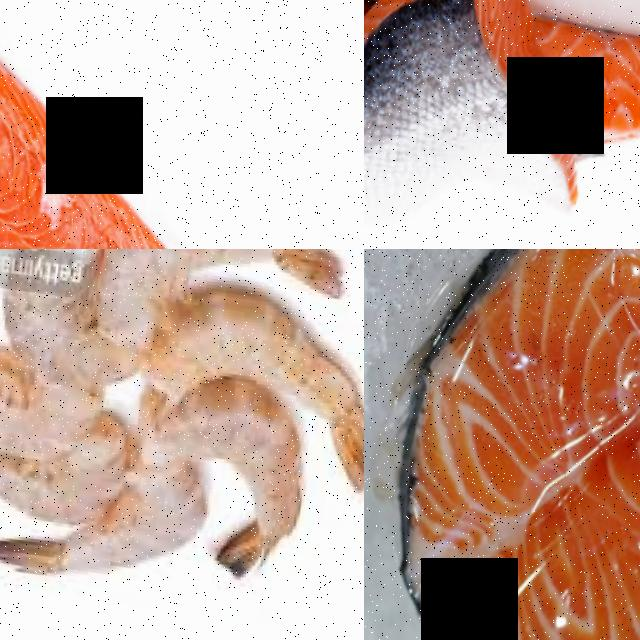salmon: (389, 249, 640, 640), (0, 0, 343, 249), (364, 0, 586, 198), (577, 16, 640, 150)
shrimp: (166, 284, 364, 392), (216, 388, 324, 585), (0, 508, 195, 599), (119, 249, 362, 305), (0, 431, 122, 529), (0, 353, 107, 461)
